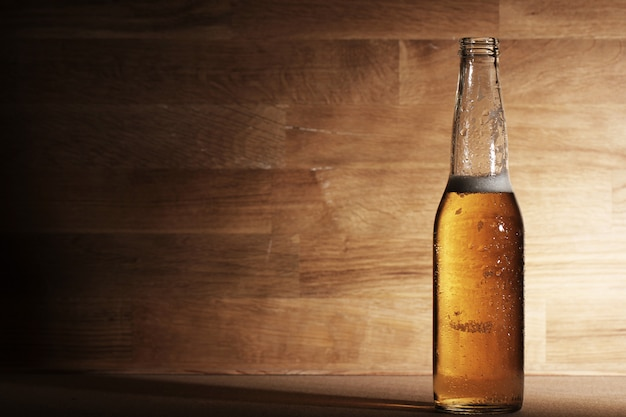alcohol: (430, 35, 525, 414)
